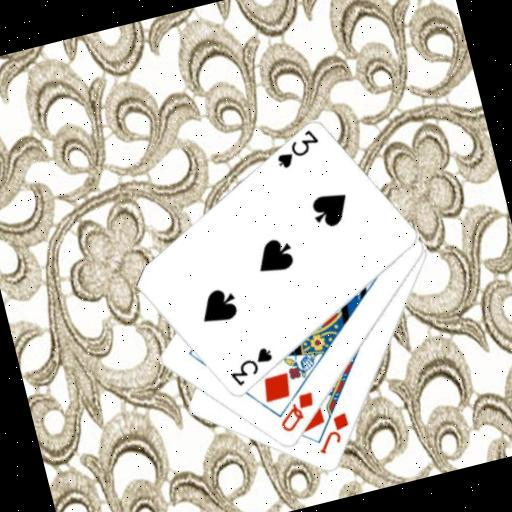3S: (269, 125, 326, 173), (223, 343, 279, 391)
JD: (308, 408, 357, 457)
QD: (271, 388, 322, 436)
